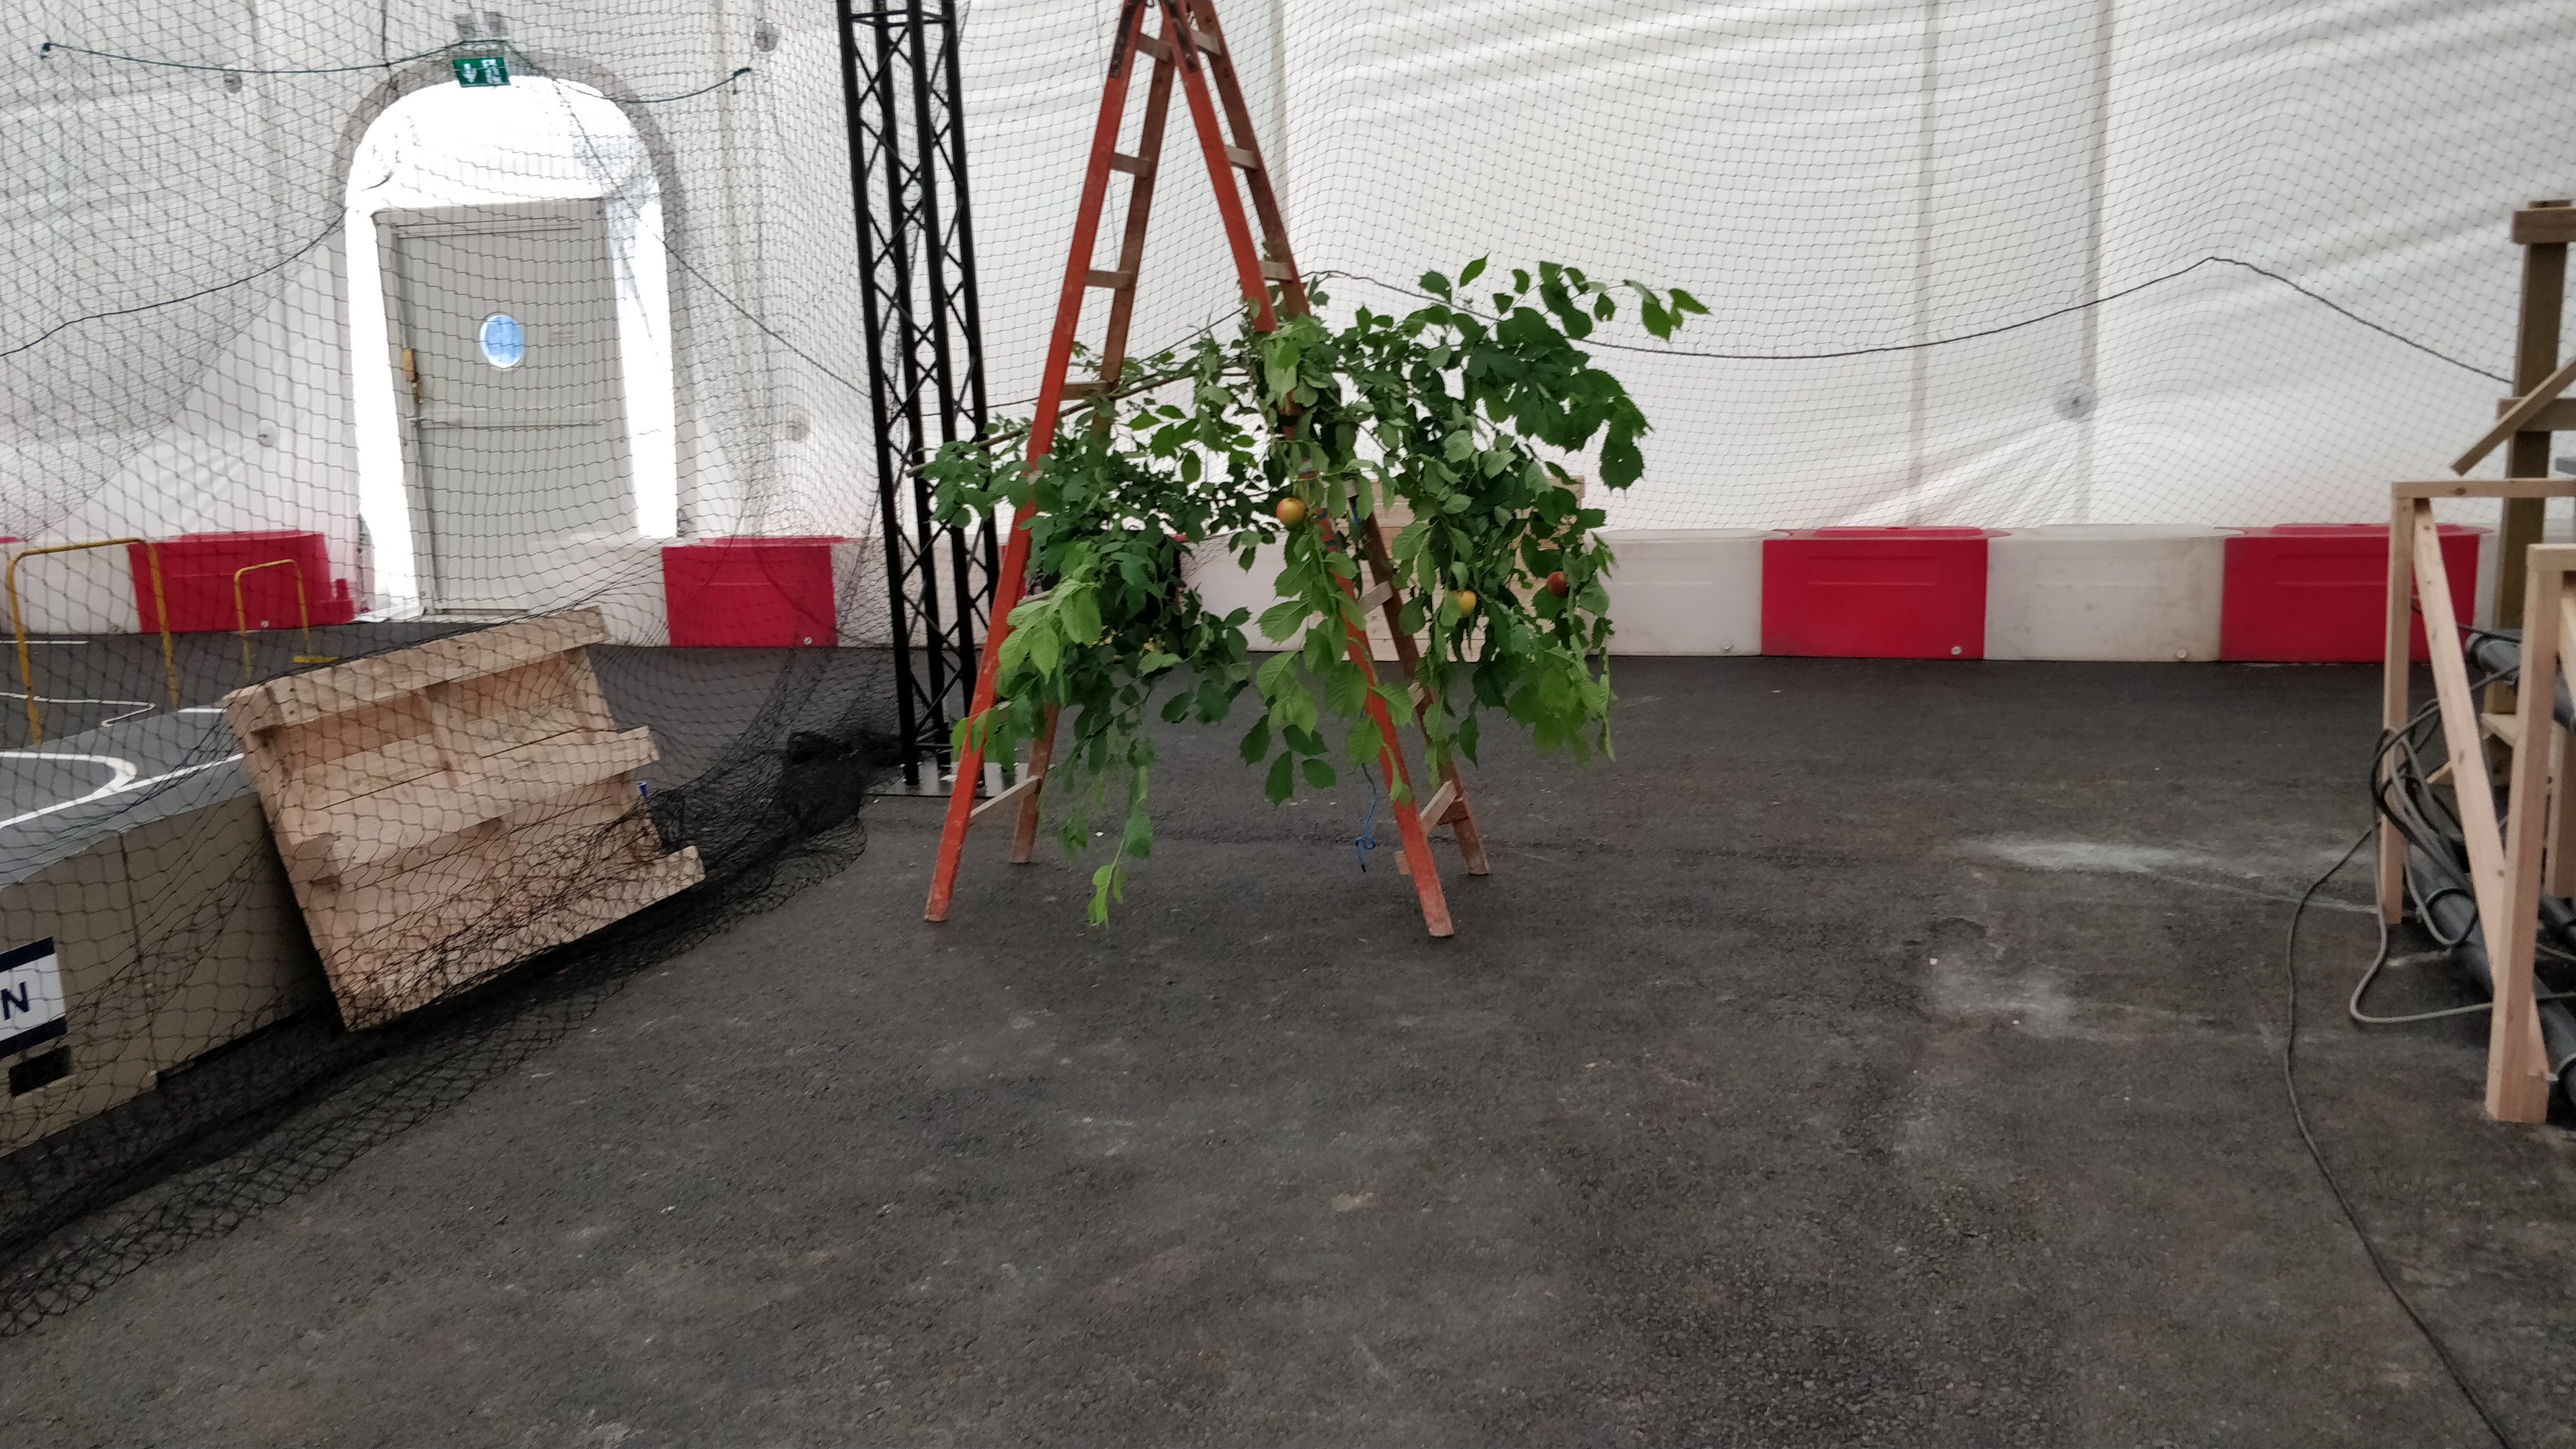apple: (1276, 499, 1306, 529), (1449, 589, 1476, 617), (1546, 571, 1571, 598)
